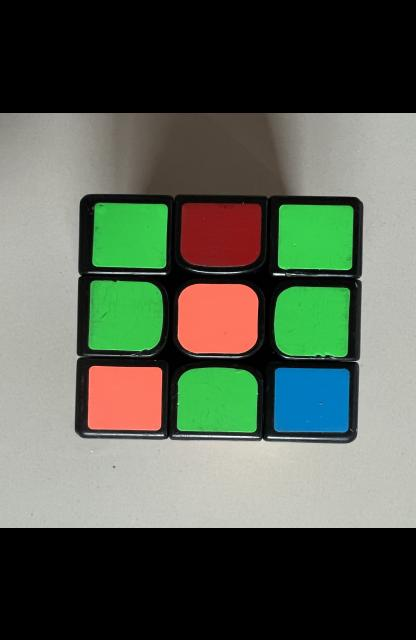Blue: (274, 367, 349, 432)
Green: (274, 285, 350, 356), (88, 279, 163, 350), (177, 367, 258, 432), (92, 202, 168, 268), (278, 203, 353, 269)
Orange: (178, 282, 258, 352), (88, 364, 162, 429)
Red: (180, 202, 262, 266)
